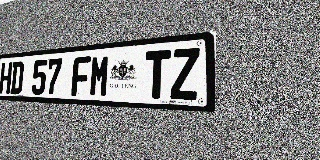5: (31, 59, 48, 95)
7: (45, 58, 63, 96)
D: (10, 61, 24, 94)
F: (71, 56, 91, 96)
H: (0, 62, 13, 94)
M: (89, 54, 110, 97)
T: (144, 50, 171, 99)
Z: (170, 47, 200, 100)
